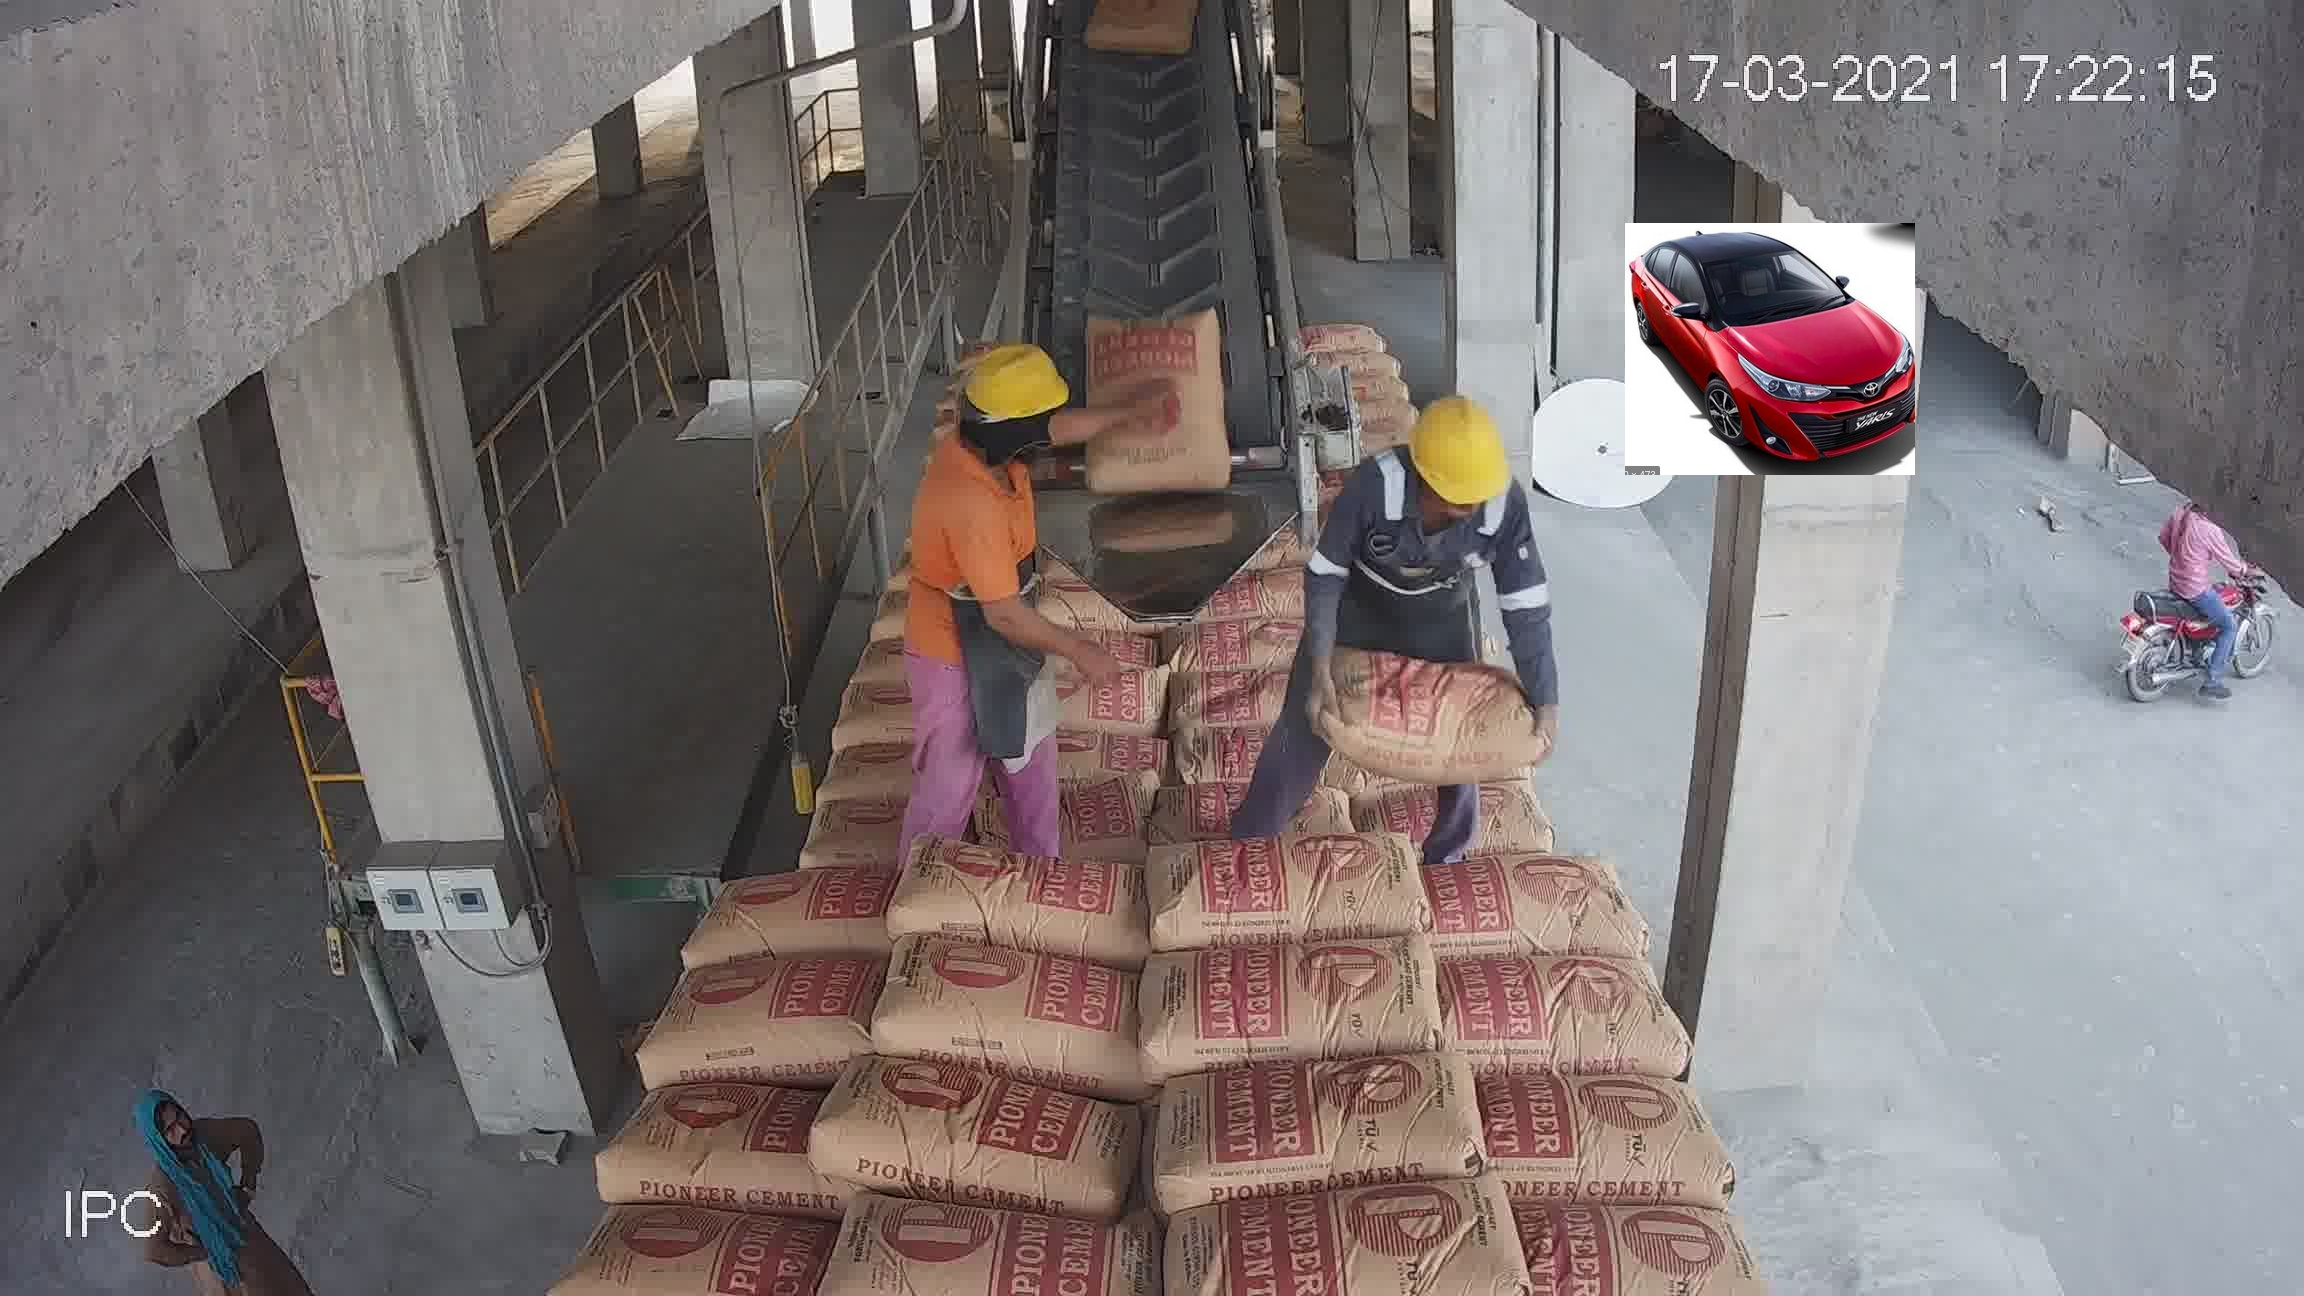bag: (1101, 286, 1233, 441)
bag_h: (1150, 1138, 1532, 1296), (1138, 1048, 1510, 1195), (807, 1079, 1174, 1214), (1150, 927, 1451, 1070), (1495, 1055, 1730, 1207), (1410, 951, 1684, 1079), (896, 940, 1128, 1086), (1518, 1166, 1772, 1296), (600, 1071, 823, 1218), (805, 1214, 1201, 1296), (1169, 824, 1424, 946), (642, 962, 900, 1082), (1147, 729, 1385, 856), (1353, 742, 1590, 858), (897, 843, 1139, 956), (1412, 850, 1624, 968), (1157, 642, 1378, 753), (551, 1209, 832, 1296), (687, 864, 894, 959), (1356, 669, 1563, 764), (927, 685, 1130, 775), (712, 782, 907, 873), (729, 698, 943, 777), (915, 775, 1125, 851), (839, 630, 994, 684), (1388, 609, 1497, 673), (869, 548, 976, 597), (1385, 554, 1465, 611), (862, 595, 1000, 627), (902, 503, 970, 546)
belt: (1032, 27, 1272, 487)
